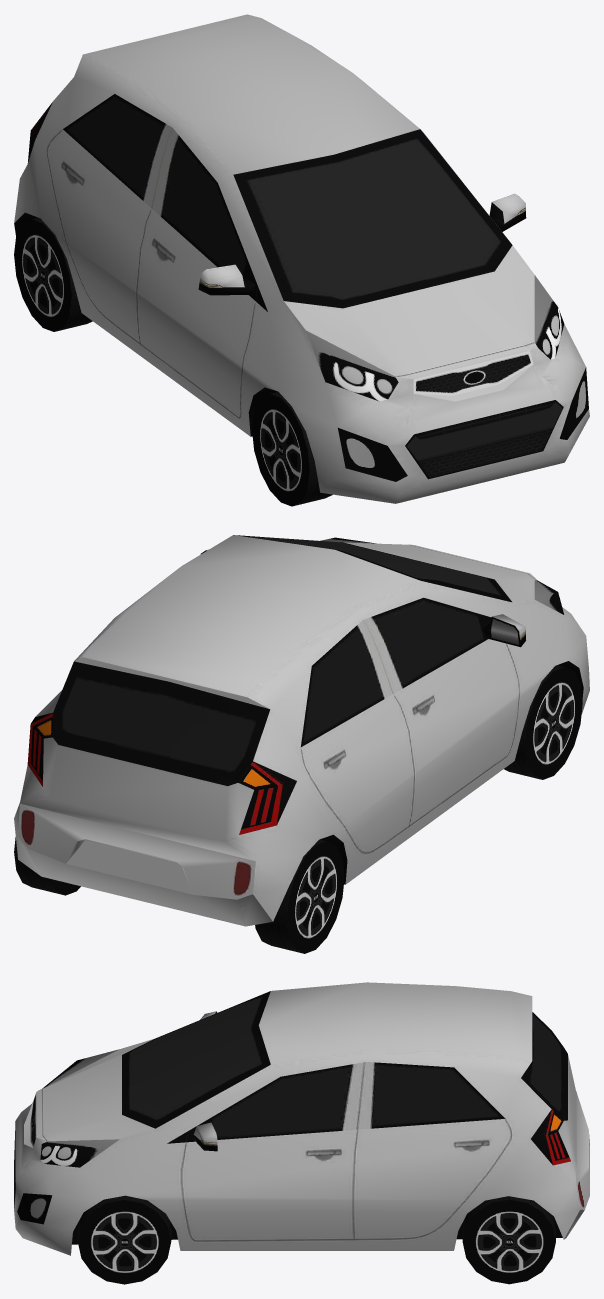
The model's file is 2014_kia_morning_picanto.glb.
3 views of the same model, one above another, from view 1: azimuth 30°, elevation 25°; view 2: azimuth 150°, elevation 25°; view 3: azimuth 270°, elevation 25° (orthographic). The views are drawn at different scales.
Parts seen in each view (by area): view 1: Object_2; view 2: Object_2; view 3: Object_2.
Boxes of the visible parts, left/top/right/bottom form: Object_2: left=14, top=14, right=589, bottom=506; Object_2: left=14, top=535, right=589, bottom=953; Object_2: left=14, top=982, right=589, bottom=1284.
Size of the model in its own units: 1.88 by 1.48 by 3.59.
1 material, 1 textured.
